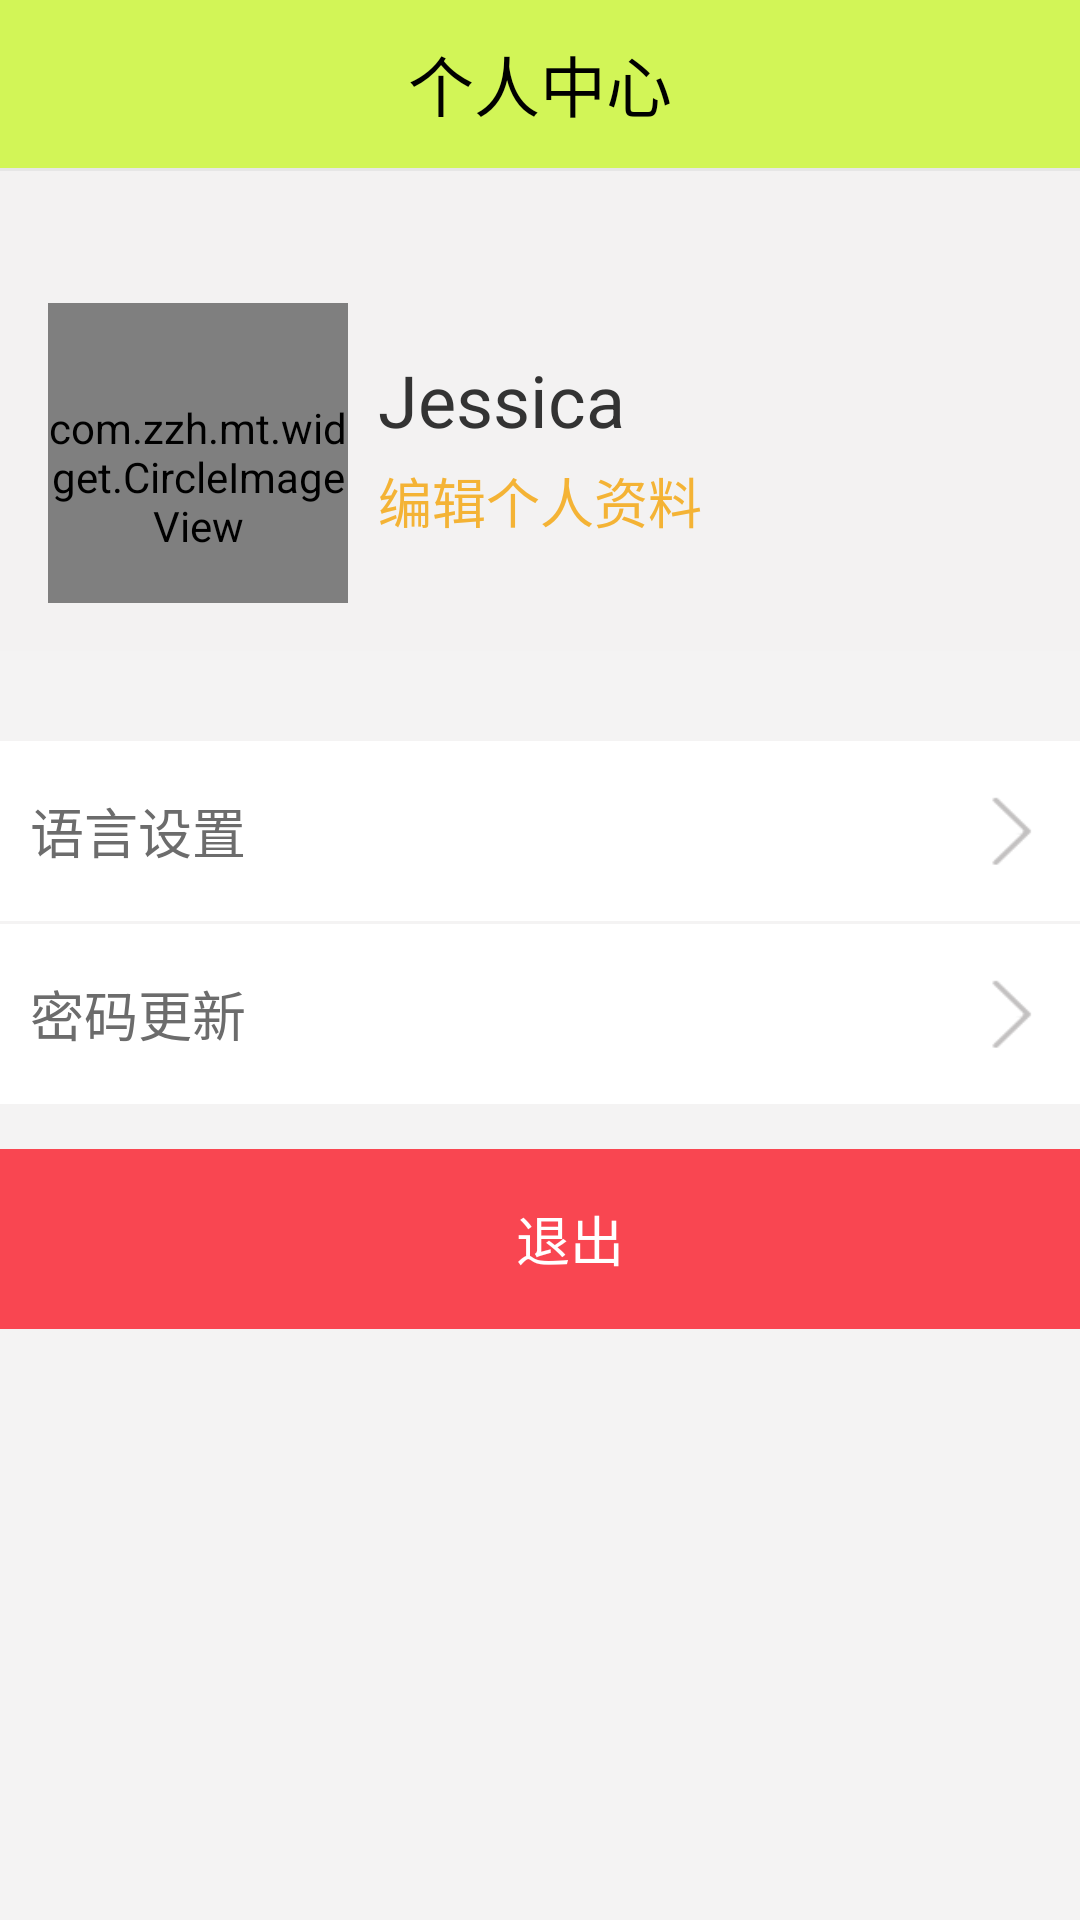

Screen size 1080x1920. Icon name, then its box in pixels as (x1, y1, x2, y2):
elective right icpn: (993, 798, 1031, 865), (993, 981, 1031, 1048)
